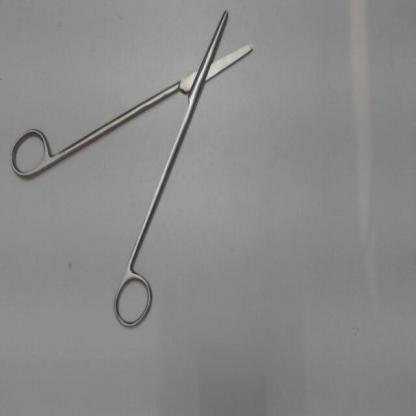9 Metzenbaum Scissors: (5, 3, 260, 340)
